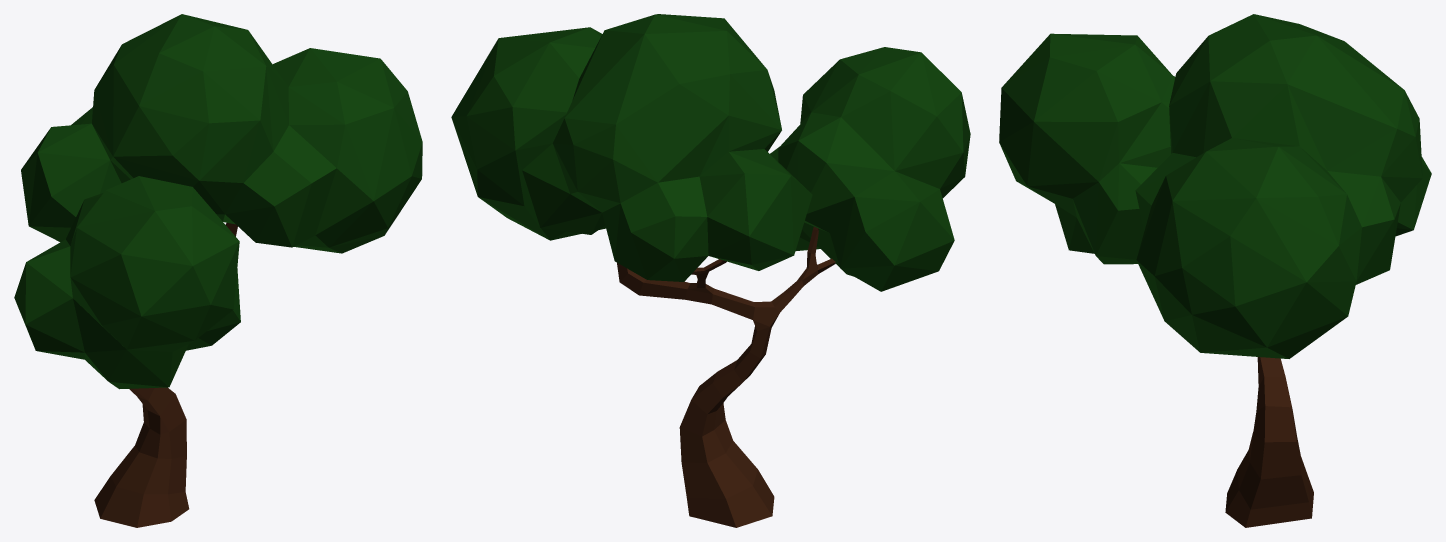
File: trees2.obj
3 renders of one model, left to right at view 1: azimuth 30°, elevation 25°; view 2: azimuth 150°, elevation 25°; view 3: azimuth 270°, elevation 25°, orthographic. The views are drawn at different scales.
Visible parts, largest first — view 1: LowPoly_Tree_07_lowpoly_tree_04_Plane.012; view 2: LowPoly_Tree_07_lowpoly_tree_04_Plane.012; view 3: LowPoly_Tree_07_lowpoly_tree_04_Plane.012.
Boxes of the visible parts, left/top/right/bottom form: LowPoly_Tree_07_lowpoly_tree_04_Plane.012: left=14, top=14, right=422, bottom=527; LowPoly_Tree_07_lowpoly_tree_04_Plane.012: left=451, top=14, right=970, bottom=527; LowPoly_Tree_07_lowpoly_tree_04_Plane.012: left=999, top=14, right=1431, bottom=527.
Bounding box in the file's own units: 4.16 × 4.3 × 3.33.
